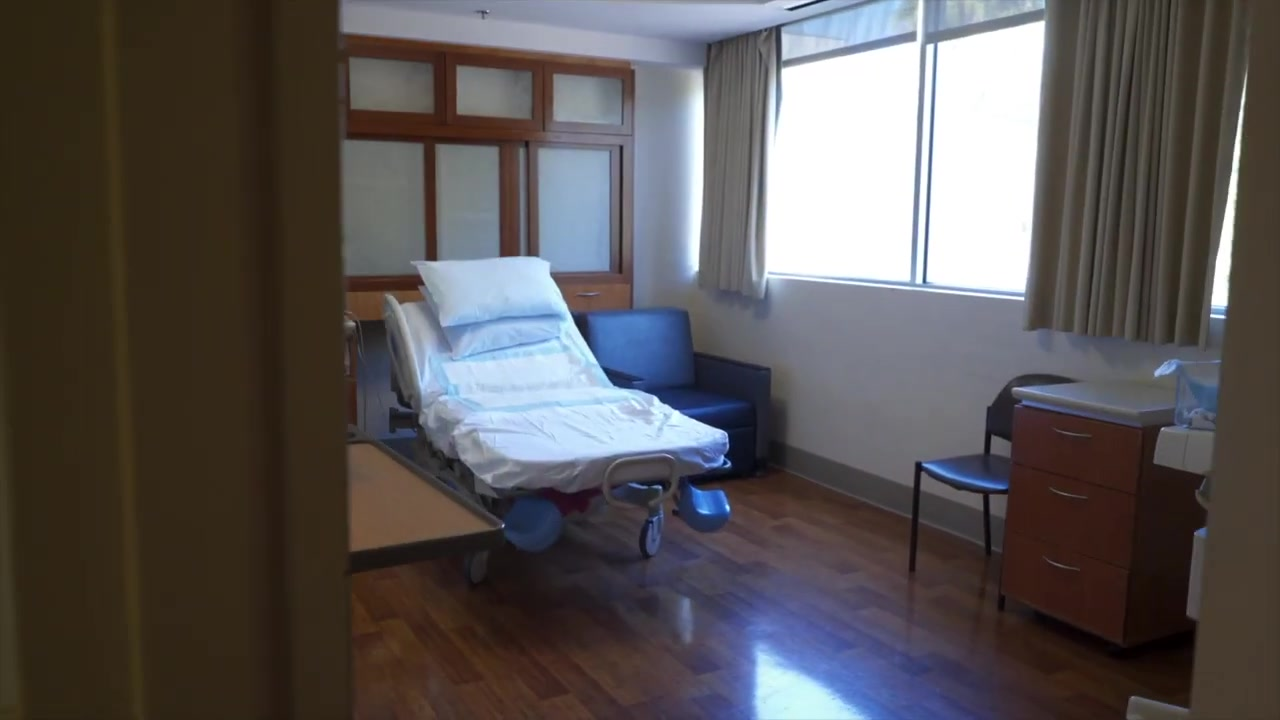bedrail: (382, 293, 421, 412)
chair: (909, 373, 1078, 611)
countertop: (347, 435, 507, 575)
drawer: (1001, 380, 1207, 648)
handle: (1048, 424, 1095, 442), (1046, 484, 1090, 501), (1041, 555, 1083, 572), (574, 289, 602, 299)
hospital_bed: (382, 256, 732, 587)
sofa: (575, 308, 771, 488)
